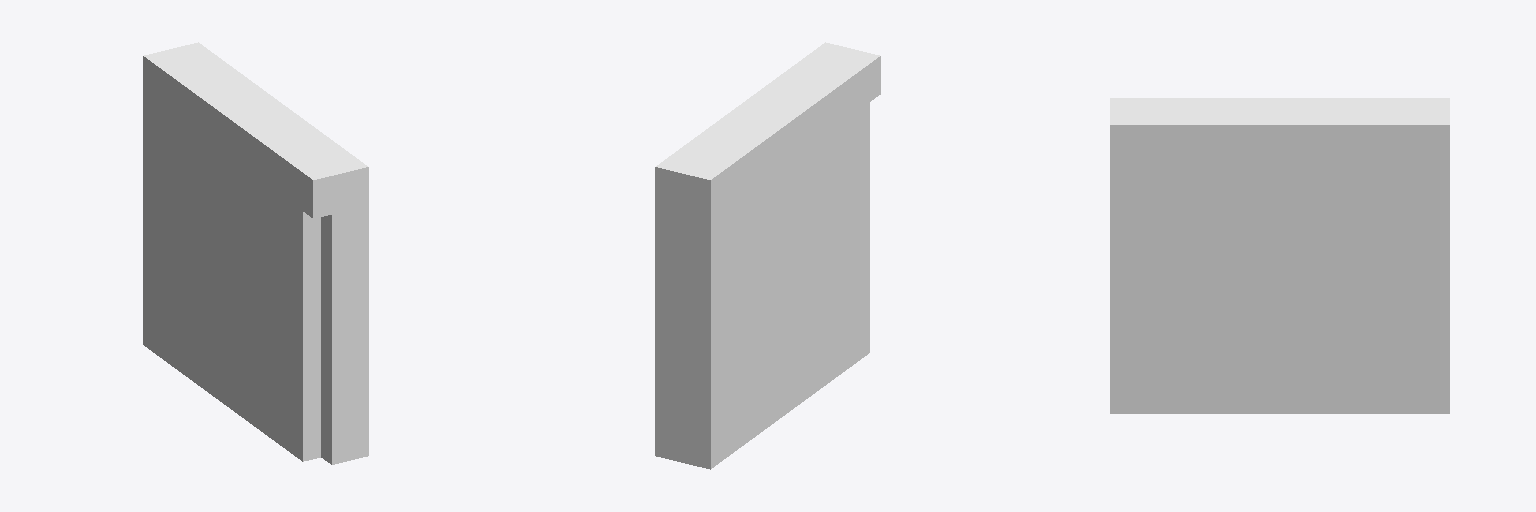
File: WallsSimpleV1CornerFront2Low.obj
3 renders of one model, left to right at view 1: azimuth 30°, elevation 25°; view 2: azimuth 150°, elevation 25°; view 3: azimuth 270°, elevation 25°, orthographic.
Parts seen in each view (by area): view 1: object 1; view 2: object 1; view 3: object 1.
Boxes of the visible parts, x1,y1,x2,y2 form: object 1: [143, 42, 368, 464]; object 1: [655, 42, 880, 469]; object 1: [1110, 98, 1449, 413].
Size of the model in its own units: 0.3 by 1.5 by 1.6.